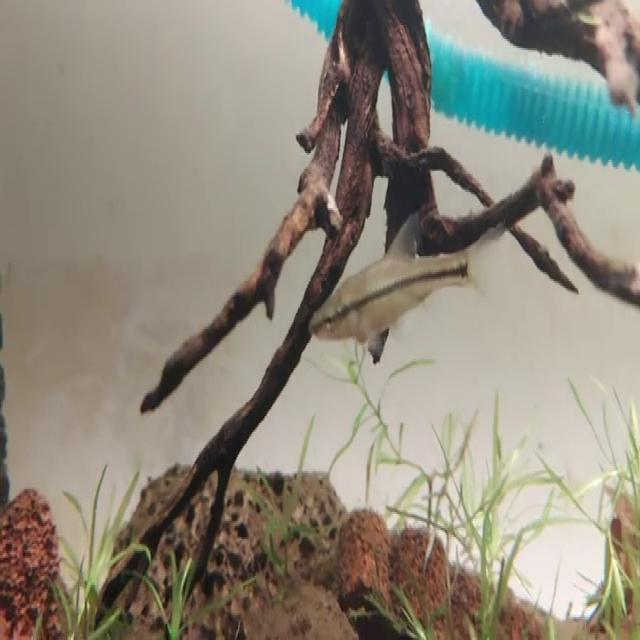Cakil Baligi: (306, 206, 475, 366)
